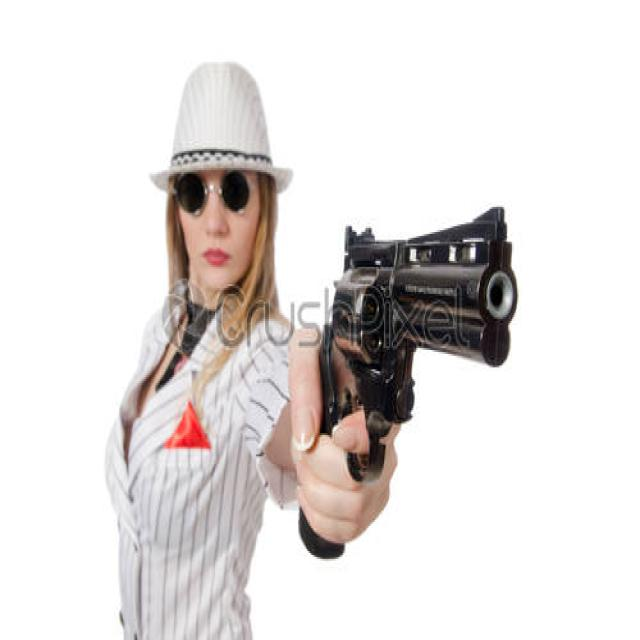HandGun: (319, 207, 518, 483)
